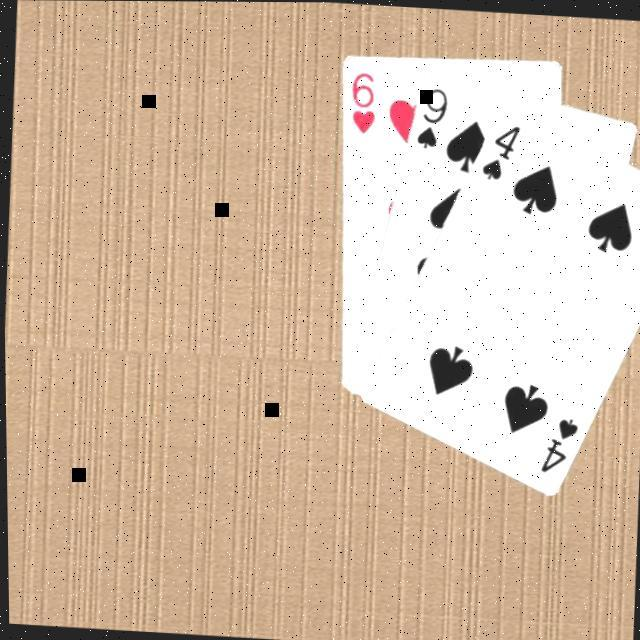4S: (477, 118, 525, 182), (535, 411, 583, 475)
6H: (346, 66, 381, 135)
9S: (412, 81, 453, 151)
